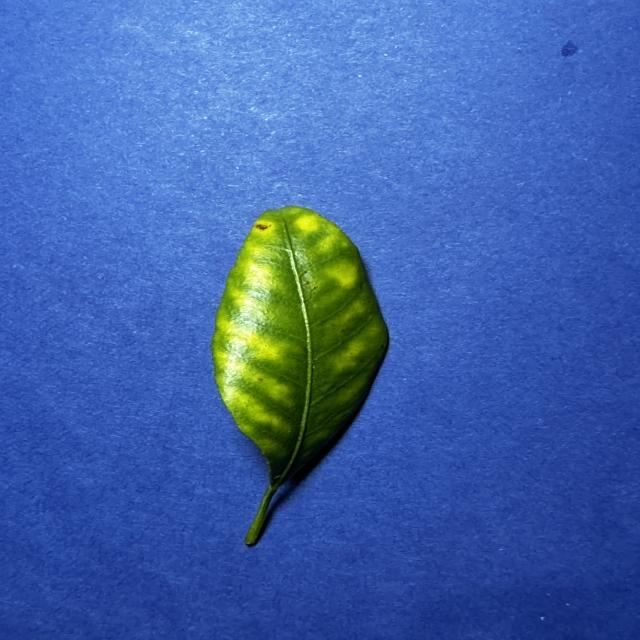greening: (212, 206, 388, 544)
